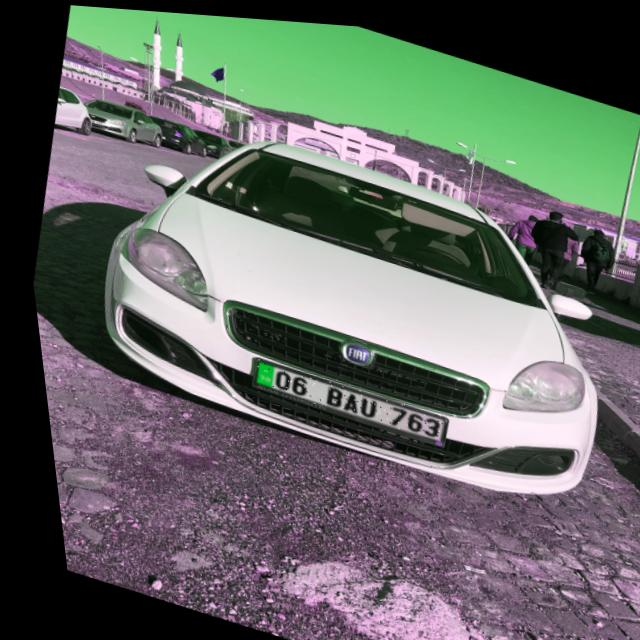license_plate: (241, 354, 438, 438)
